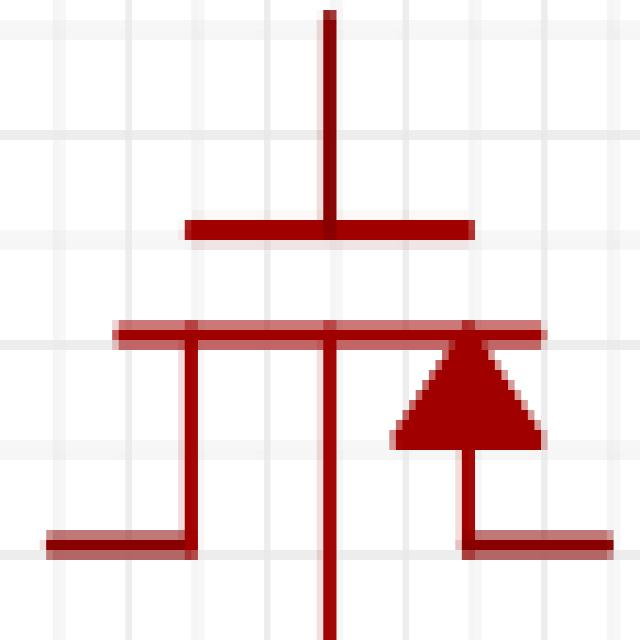pmos: (44, 12, 635, 636)
